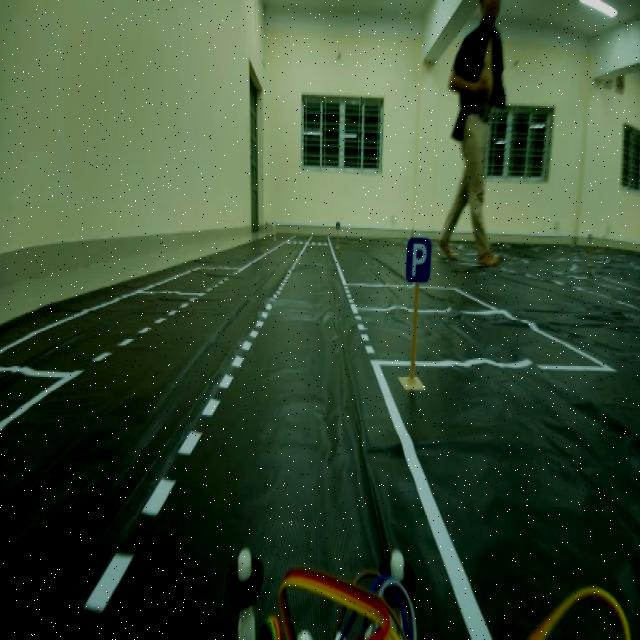parking: (400, 234, 434, 294)
